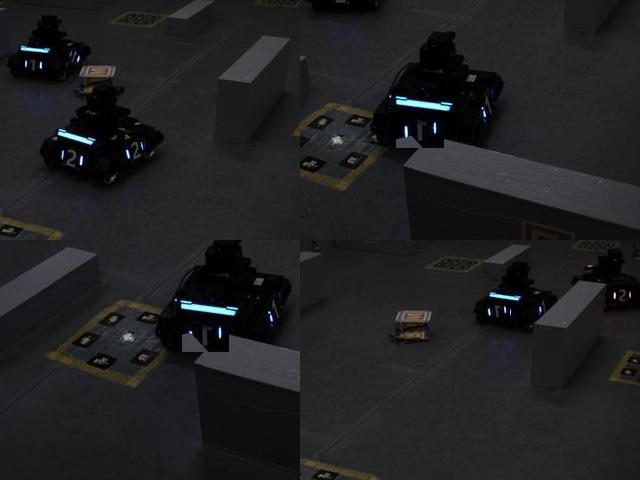armor: (397, 111, 446, 149), (182, 319, 230, 353), (471, 96, 502, 126), (120, 136, 149, 168), (57, 143, 86, 174), (263, 297, 287, 330), (609, 285, 636, 306), (22, 56, 46, 75), (488, 304, 512, 322), (530, 298, 550, 318), (67, 49, 84, 68), (325, 0, 356, 8)
